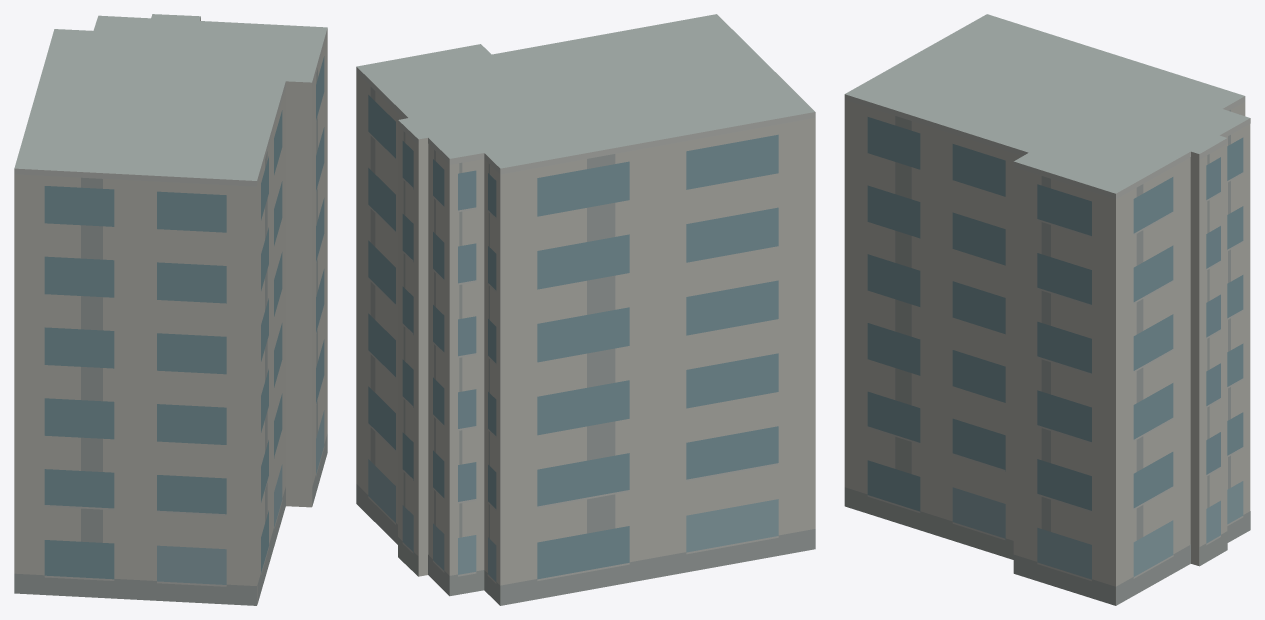
The model's file is survey-upis-32846917.glb.
3 renders of one model, left to right at view 1: azimuth 30°, elevation 25°; view 2: azimuth 150°, elevation 25°; view 3: azimuth 270°, elevation 25°, orthographic. The views are drawn at different scales.
Visible parts, largest first — view 1: survey-upis-32846917.tmp; view 2: survey-upis-32846917.tmp; view 3: survey-upis-32846917.tmp.
Boxes of the visible parts, bbox=[...] form: survey-upis-32846917.tmp: bbox=[14, 14, 327, 605]; survey-upis-32846917.tmp: bbox=[356, 14, 815, 605]; survey-upis-32846917.tmp: bbox=[844, 14, 1250, 605].
Size of the model in its own units: 16.9 by 18.06 by 16.12.
